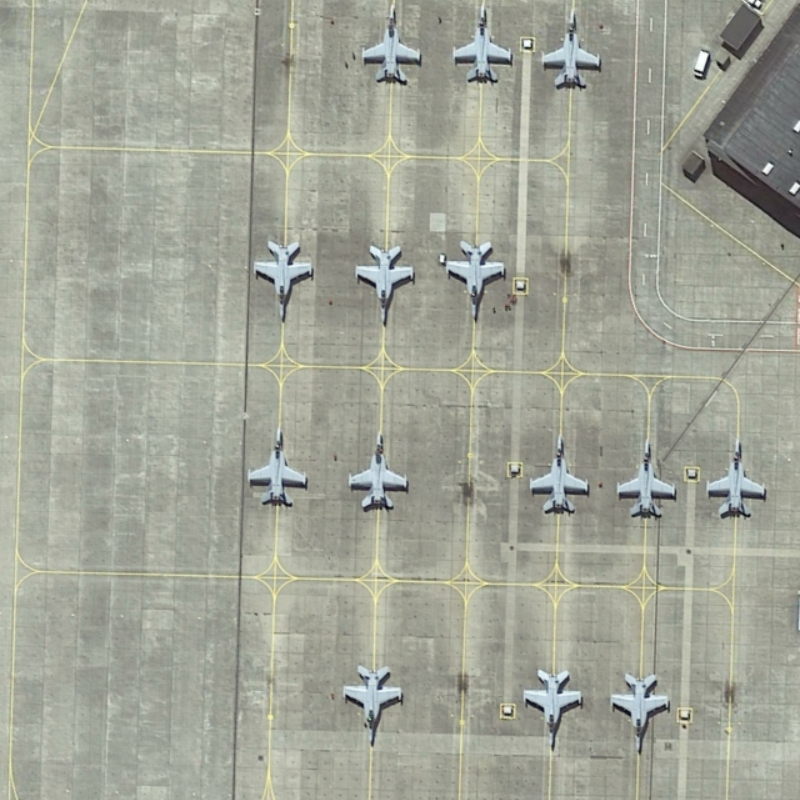A16: (532, 1, 610, 97), (437, 236, 514, 329), (251, 228, 323, 327), (518, 665, 594, 757), (348, 233, 419, 331), (610, 429, 683, 524), (354, 1, 430, 88), (239, 421, 312, 511), (701, 432, 770, 525), (524, 431, 593, 523), (338, 661, 409, 750), (343, 426, 413, 516), (607, 665, 671, 762), (447, 1, 515, 89)
